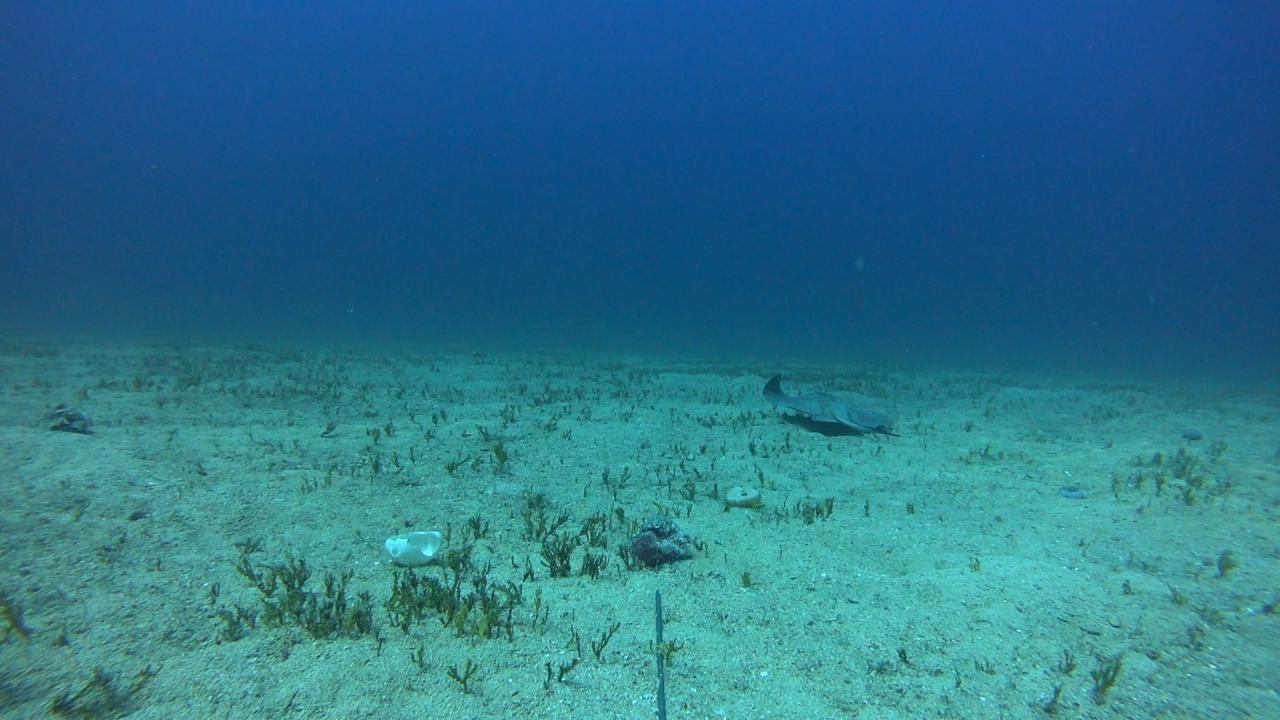dasyatis: (760, 373, 903, 437)
